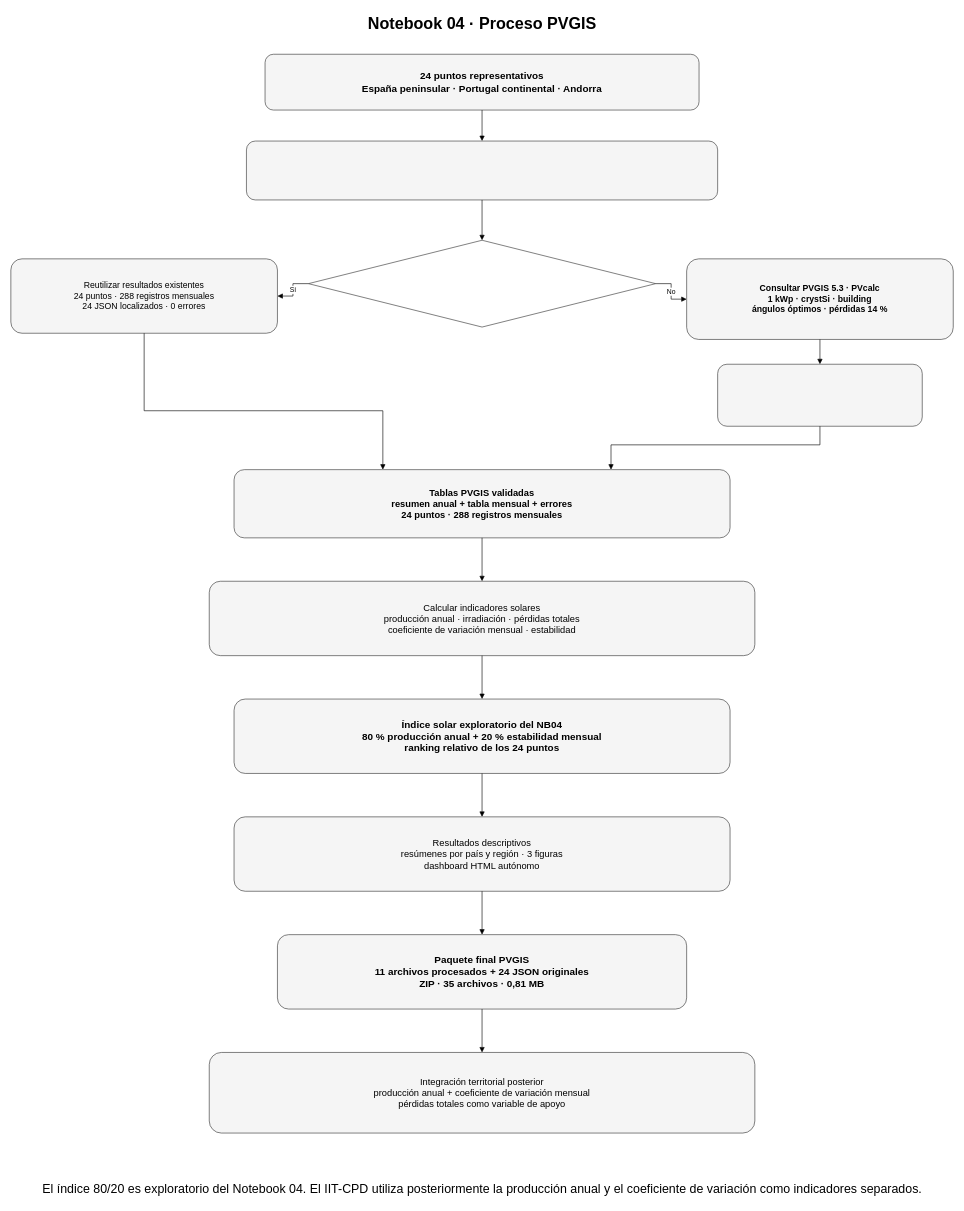
This 964x1211 diagram has some shape labels left out. The shapes that lost their labels are listed below. From the top down, each one's centre as x and y in pixels, then its label:
At [482,170]: "Buscar resultados PVGIS disponibles en Kaggle Input".
At [482,283]: "¿Están disponibles las tablas anual y mensual?".
At [819,395]: "Guardar respuestas JSON originales y URLs de consulta".
